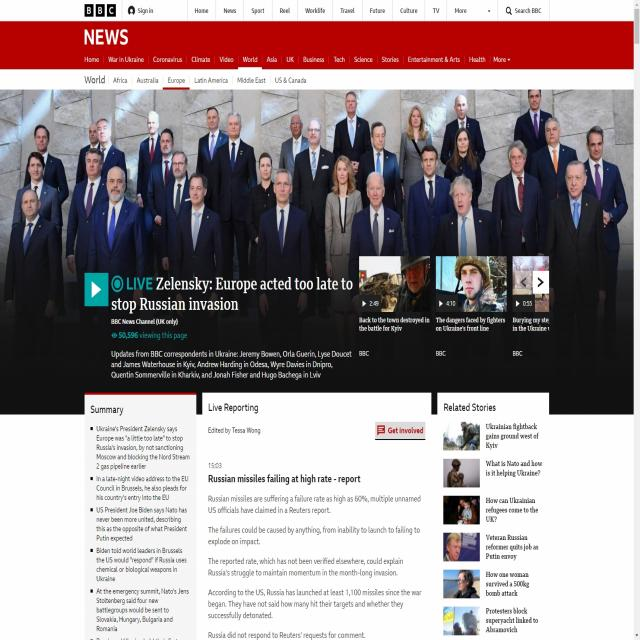menu-panel: (84, 394, 196, 640), (82, 50, 514, 70), (82, 72, 308, 86)
